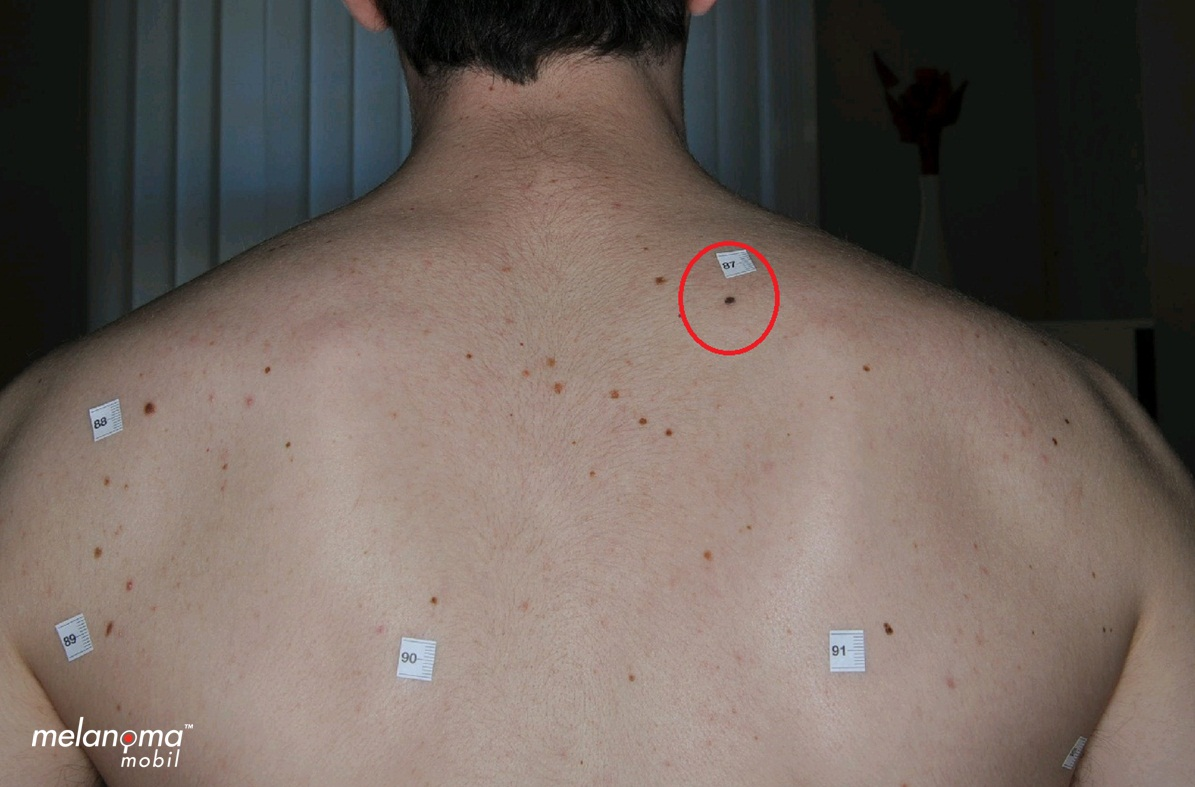mole: (254, 356, 285, 384), (873, 612, 900, 644), (97, 613, 124, 645), (132, 396, 167, 420), (598, 383, 631, 406), (92, 466, 121, 492), (421, 587, 448, 614), (545, 374, 572, 399), (719, 289, 745, 313), (700, 545, 726, 569), (85, 540, 109, 565), (657, 423, 681, 447), (624, 664, 645, 691), (632, 413, 659, 433), (647, 271, 672, 291), (459, 346, 482, 367), (857, 359, 879, 379), (1045, 433, 1065, 453), (279, 439, 301, 456)
